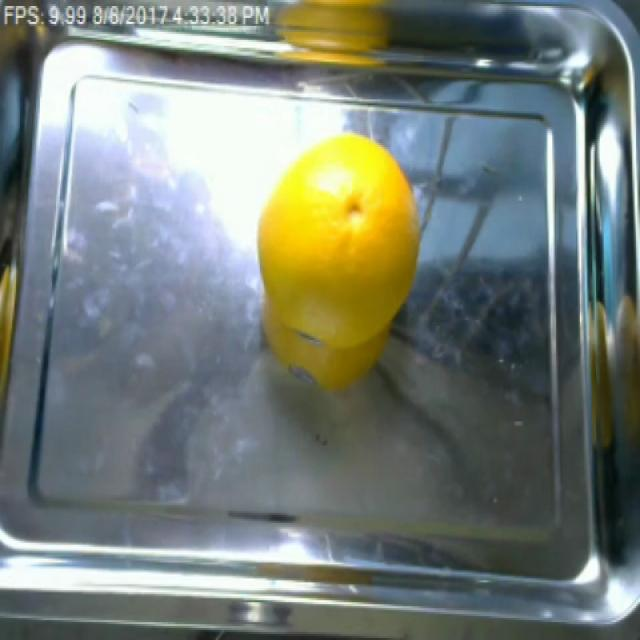Fruit: (251, 123, 428, 390), (261, 0, 407, 80)
